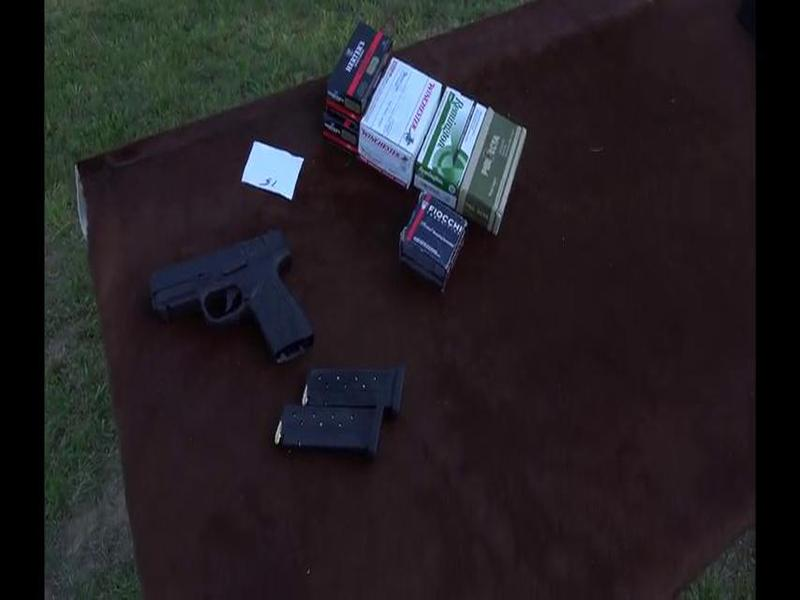Pistola: (121, 226, 342, 372)
